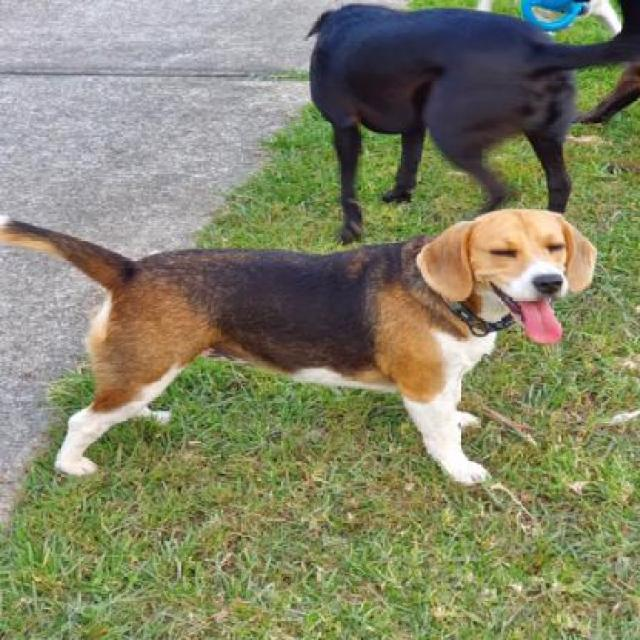Dog: (5, 185, 603, 520)
